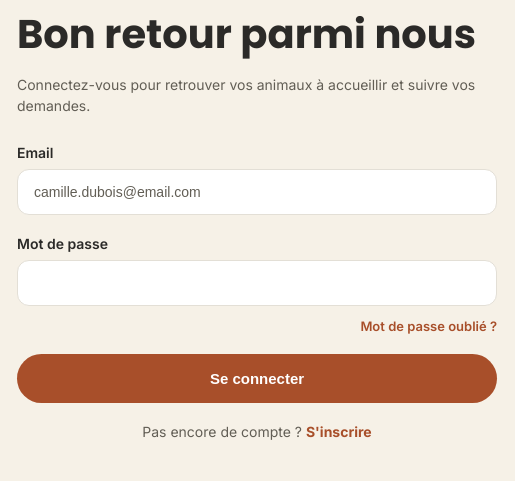
Test case: Login › affiche un message d'erreur si les identifiants sont invalides
The width and height of the screenshot is (515, 481).
Type "camille@email.com" into the field labelled "Email" at (257, 192), box x1=17 y1=169 x2=497 y2=215
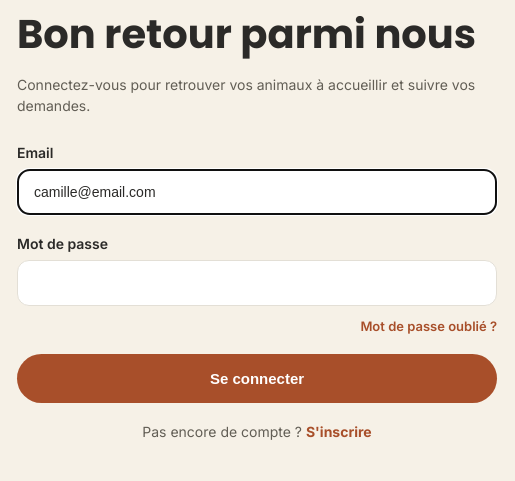
Type "motdepasse123!" into the password field labelled "Mot de passe" at (257, 283), box x1=17 y1=260 x2=497 y2=306
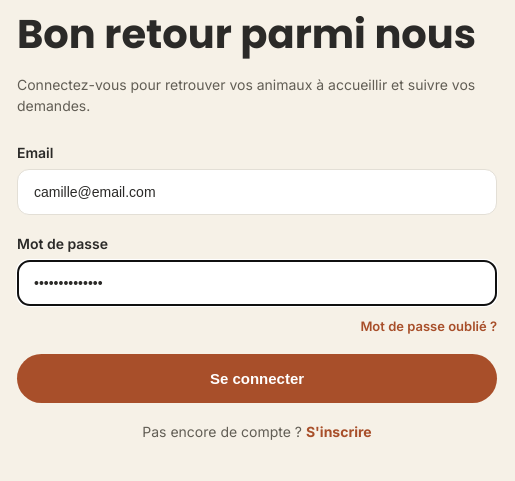
Click the button "Se connecter" at (257, 378), box x1=17 y1=354 x2=497 y2=403
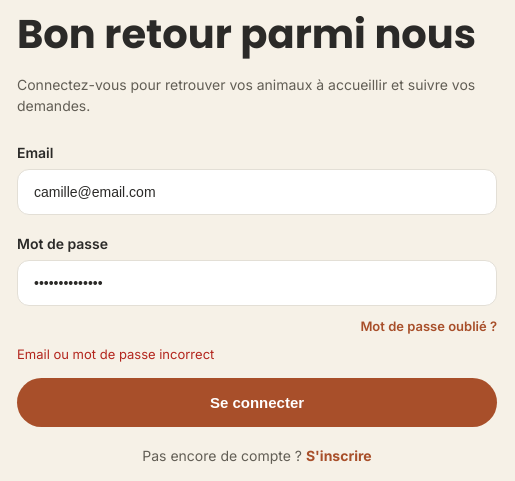
Now the text "Email ou mot de passe incorrect" is shown, box x1=17 y1=346 x2=214 y2=362
